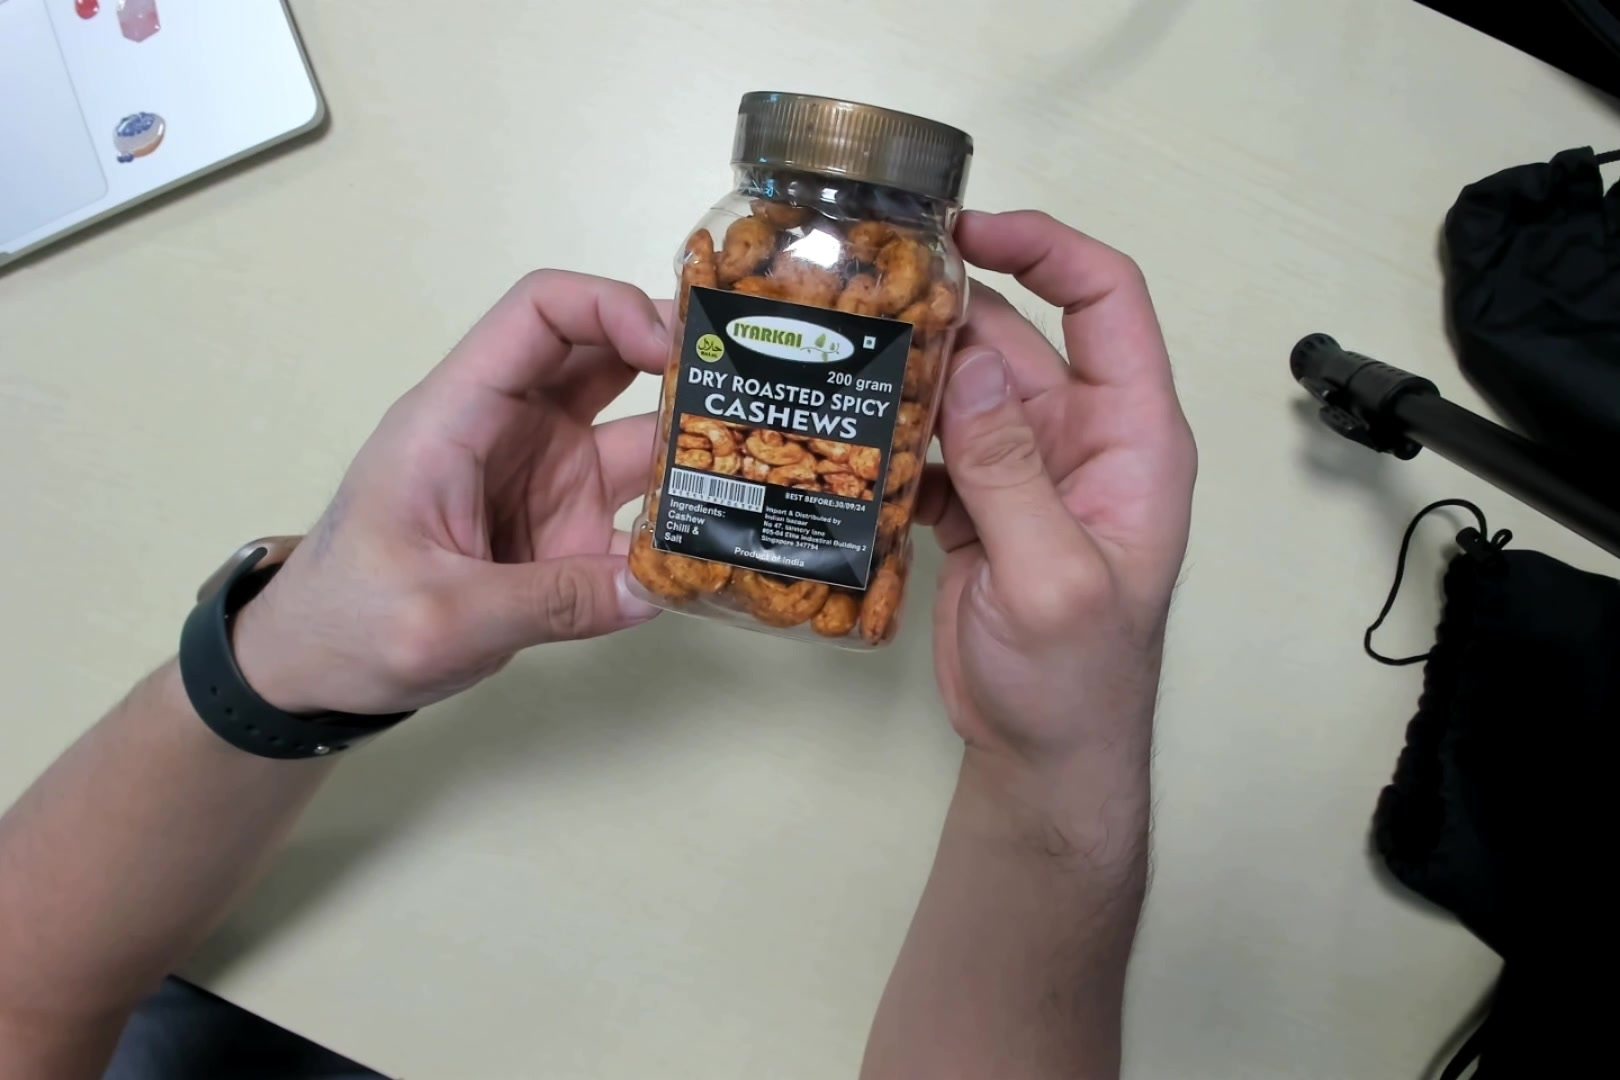Nuts_200-299g_NonHalal_NonHealthy: (634, 74, 962, 646)
